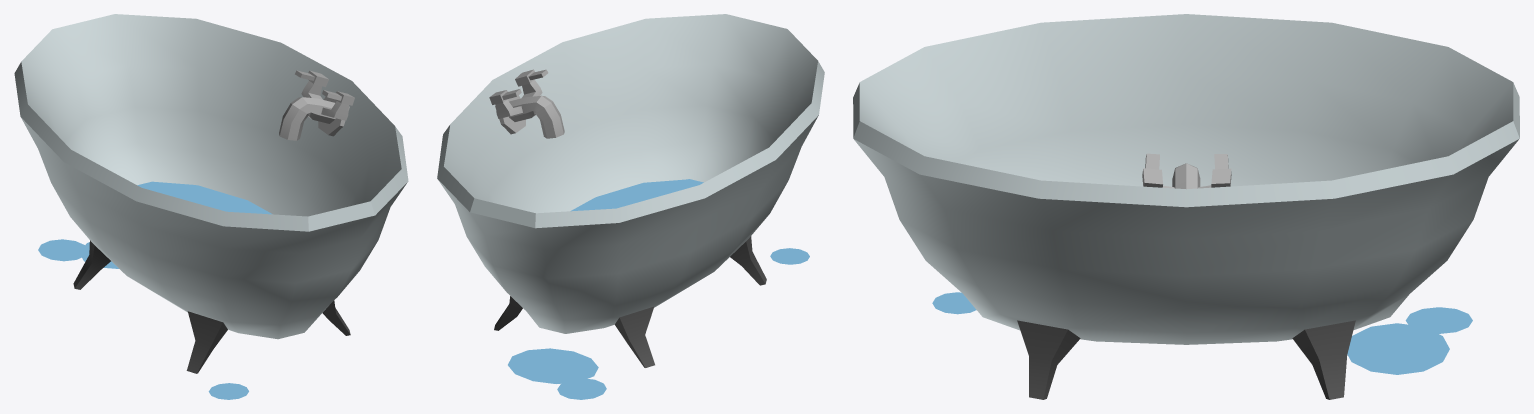
Rendered from Bathtub_d.fbx.
The picture shows the model from 3 angles, left to right: view 1: azimuth 30°, elevation 25°; view 2: azimuth 150°, elevation 25°; view 3: azimuth 270°, elevation 25°; orthographic projection. The views are drawn at different scales.
Parts seen in each view (by area): view 1: pDisc5; view 2: pDisc5; view 3: pDisc5.
Part boxes in pixels (<box>): pDisc5: <box>14,14,408,399</box>; pDisc5: <box>437,14,824,399</box>; pDisc5: <box>853,14,1519,399</box>.
Bounding box in the file's own units: 22.68 × 15.06 × 34.76.
